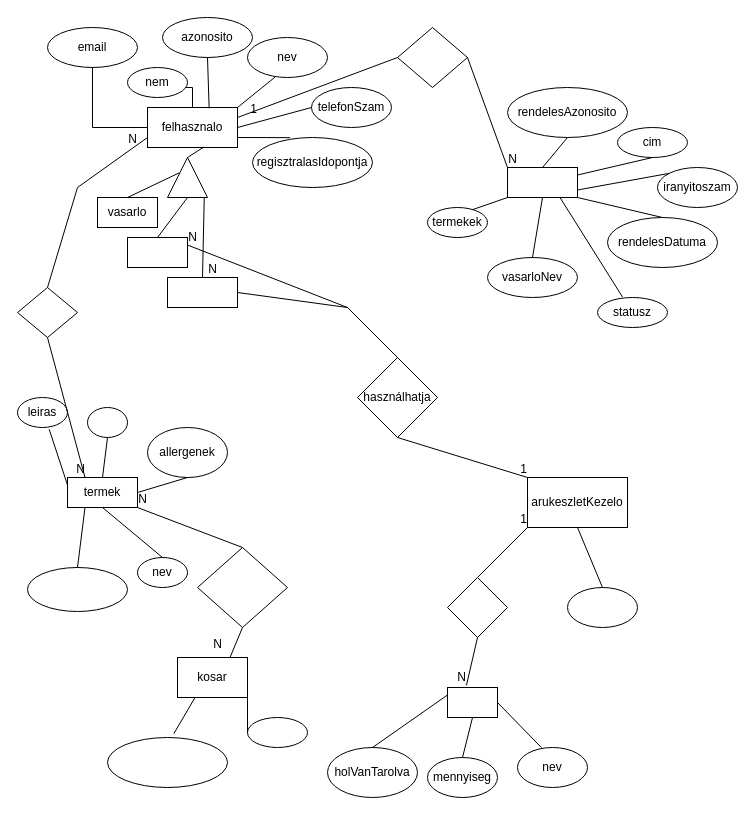
Some shapes in this 755 by 815 pixel diagram are drawn without their labels. The centre of each missing label's shape, as x and y in pixels:
"admin" belongs at point (202, 292).
"ar" belongs at point (107, 422).
"aru" belongs at point (472, 702).
"arukListaja" belongs at point (602, 607).
"kosarAzonosito" belongs at point (167, 762).
"látja" belongs at point (47, 312).
"rendeles" belongs at point (542, 182).
"részei" belongs at point (477, 607).
"sumAr" belongs at point (277, 732).
"tartalmazhatja" belongs at point (242, 587).
"termekAzonosito" belongs at point (77, 589).
"tud leadni" belongs at point (432, 57).
"worker" belongs at point (157, 252).
